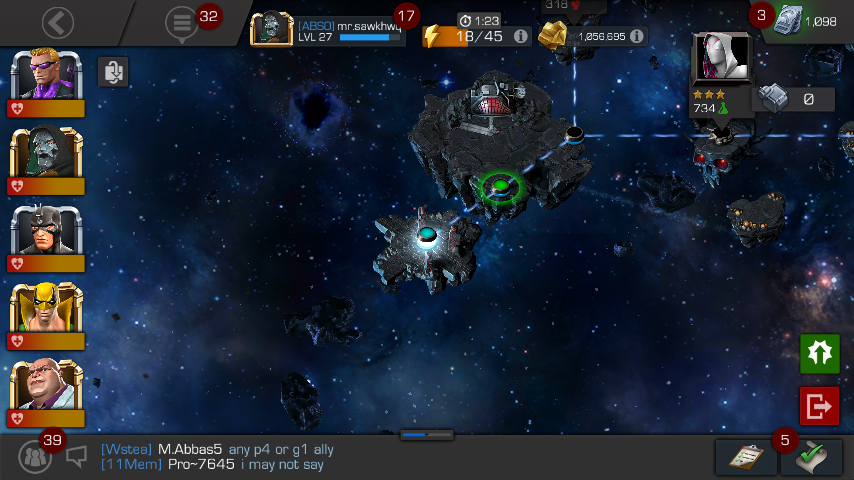green: (491, 178, 510, 195)
